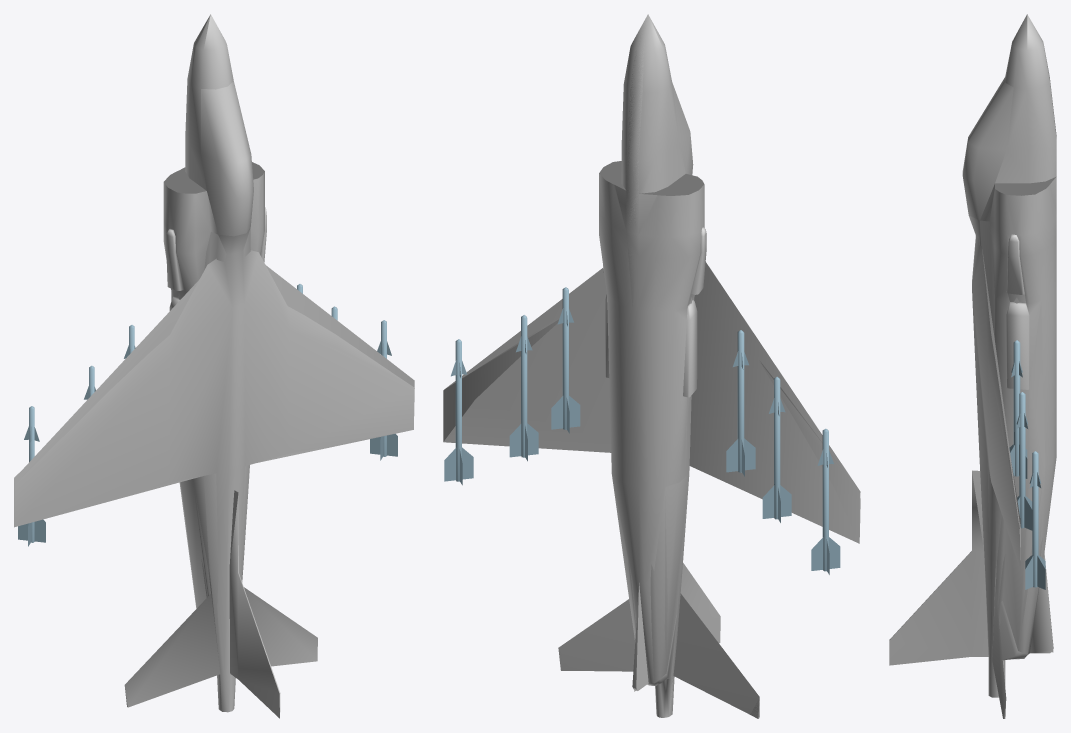
3 views of the same model, side by side, from view 1: azimuth 30°, elevation 25°; view 2: azimuth 150°, elevation 25°; view 3: azimuth 270°, elevation 25° (orthographic). The views are drawn at different scales.
Parts seen in each view (by area): view 1: db_av8b_lod2_LOD child0_wing2_p15405_Geometry_0.001, db_av8b_lod1_LOD child0_wing_p13792_Geometry_0.001, db_av8b_lod1_LOD child0_body_pl2_Geometry_0.001, db_av8b_lod1_LOD child0_stab_p13813_Geometry_0.001, db_av8b_lod1_LOD child0_cpit_p13686_Geometry_0.001, db_av8b_lod3_LOD child0_wing3_p16493_Geometry_0.001, db_av8b_lod1_LOD child0_tail_pl13_Geometry_0.001, db_av8b_lod2_LOD child0_body2_p15446_Geometry_0.001, db_av8b_lod1_LOD child0_vents_p13742_Geometry_0.001, db_av8b_weap_LOD child0_o2651_p16615_Geometry_0.001, db_av8b_weap_LOD child0_o2653_p16644_Geometry_0.001, db_av8b_lod3_LOD child0_body3_p16507_Geometry_0.001; view 2: db_av8b_lod1_LOD child0_body_pl2_Geometry_0.001, db_av8b_lod3_LOD child0_wing3_p16493_Geometry_0.001, db_av8b_lod2_LOD child0_body2_p15446_Geometry_0.001, db_av8b_lod1_LOD child0_stab_p13813_Geometry_0.001, db_av8b_lod2_LOD child0_wing2_p15405_Geometry_0.001, db_av8b_lod1_LOD child0_vents_p13742_Geometry_0.001, db_av8b_weap_LOD child0_o2657_p16702_Geometry_0.001, db_av8b_weap_LOD child0_o2653_p16644_Geometry_0.001, db_av8b_weap_LOD child0_o2659_p16731_Geometry_0.001, db_av8b_weap_LOD child0_o2655_p16673_Geometry_0.001, db_av8b_weap_LOD child0_o2651_p16615_Geometry_0.001, db_av8b_weap_LOD child0_o2661_p16760_Geometry_0.001 (+5 smaller); view 3: db_av8b_lod1_LOD child0_body_pl2_Geometry_0.001, db_av8b_lod1_LOD child0_tail_pl13_Geometry_0.001, db_av8b_lod2_LOD child0_body2_p15446_Geometry_0.001, db_av8b_lod1_LOD child0_cpit_p13686_Geometry_0.001, db_av8b_lod1_LOD child0_wing_p13792_Geometry_0.001, db_av8b_lod1_LOD child0_vents_p13742_Geometry_0.001, db_av8b_lod2_LOD child0_wing2_p15405_Geometry_0.001, db_av8b_weap_LOD child0_o2653_p16644_Geometry_0.001, db_av8b_lod3_LOD child0_body3_p16507_Geometry_0.001, db_av8b_weap_LOD child0_o2659_p16731_Geometry_0.001, db_av8b_lod1_LOD child0_fin_pl7_Geometry_0.001, db_av8b_weap_LOD child0_o2661_p16760_Geometry_0.001 (+3 smaller).
Boxes of the visible parts, bbox=[...] form: db_av8b_lod2_LOD child0_wing2_p15405_Geometry_0.001: bbox=[14, 330, 414, 527]; db_av8b_lod1_LOD child0_wing_p13792_Geometry_0.001: bbox=[14, 250, 414, 520]; db_av8b_lod1_LOD child0_body_pl2_Geometry_0.001: bbox=[163, 14, 264, 712]; db_av8b_lod1_LOD child0_stab_p13813_Geometry_0.001: bbox=[124, 587, 317, 707]; db_av8b_lod1_LOD child0_cpit_p13686_Geometry_0.001: bbox=[201, 81, 253, 236]; db_av8b_lod3_LOD child0_wing3_p16493_Geometry_0.001: bbox=[14, 265, 414, 524]; db_av8b_lod1_LOD child0_tail_pl13_Geometry_0.001: bbox=[229, 490, 280, 718]; db_av8b_lod2_LOD child0_body2_p15446_Geometry_0.001: bbox=[179, 465, 249, 711]; db_av8b_lod1_LOD child0_vents_p13742_Geometry_0.001: bbox=[166, 207, 266, 310]; db_av8b_weap_LOD child0_o2651_p16615_Geometry_0.001: bbox=[18, 406, 45, 546]; db_av8b_weap_LOD child0_o2653_p16644_Geometry_0.001: bbox=[370, 320, 397, 460]; db_av8b_lod3_LOD child0_body3_p16507_Geometry_0.001: bbox=[178, 228, 250, 608]; db_av8b_lod1_LOD child0_body_pl2_Geometry_0.001: bbox=[599, 14, 704, 717]; db_av8b_lod3_LOD child0_wing3_p16493_Geometry_0.001: bbox=[443, 262, 860, 543]; db_av8b_lod2_LOD child0_body2_p15446_Geometry_0.001: bbox=[612, 15, 689, 714]; db_av8b_lod1_LOD child0_stab_p13813_Geometry_0.001: bbox=[558, 593, 759, 718]; db_av8b_lod2_LOD child0_wing2_p15405_Geometry_0.001: bbox=[443, 319, 859, 543]; db_av8b_lod1_LOD child0_vents_p13742_Geometry_0.001: bbox=[603, 227, 706, 397]; db_av8b_weap_LOD child0_o2657_p16702_Geometry_0.001: bbox=[726, 330, 755, 476]; db_av8b_weap_LOD child0_o2653_p16644_Geometry_0.001: bbox=[444, 339, 473, 485]; db_av8b_weap_LOD child0_o2659_p16731_Geometry_0.001: bbox=[509, 315, 538, 461]; db_av8b_weap_LOD child0_o2655_p16673_Geometry_0.001: bbox=[762, 376, 791, 522]; db_av8b_weap_LOD child0_o2651_p16615_Geometry_0.001: bbox=[811, 428, 840, 574]; db_av8b_weap_LOD child0_o2661_p16760_Geometry_0.001: bbox=[551, 287, 580, 433]; db_av8b_lod1_LOD child0_body_pl2_Geometry_0.001: bbox=[969, 14, 1056, 697]; db_av8b_lod1_LOD child0_tail_pl13_Geometry_0.001: bbox=[889, 470, 988, 665]; db_av8b_lod2_LOD child0_body2_p15446_Geometry_0.001: bbox=[987, 28, 1056, 655]; db_av8b_lod1_LOD child0_cpit_p13686_Geometry_0.001: bbox=[962, 77, 1013, 220]; db_av8b_lod1_LOD child0_wing_p13792_Geometry_0.001: bbox=[972, 246, 1020, 559]; db_av8b_lod1_LOD child0_vents_p13742_Geometry_0.001: bbox=[1006, 234, 1029, 389]; db_av8b_lod2_LOD child0_wing2_p15405_Geometry_0.001: bbox=[988, 359, 1020, 570]; db_av8b_weap_LOD child0_o2653_p16644_Geometry_0.001: bbox=[1025, 451, 1045, 589]; db_av8b_lod3_LOD child0_body3_p16507_Geometry_0.001: bbox=[978, 220, 1044, 648]; db_av8b_weap_LOD child0_o2659_p16731_Geometry_0.001: bbox=[1016, 392, 1032, 530]; db_av8b_lod1_LOD child0_fin_pl7_Geometry_0.001: bbox=[1030, 553, 1053, 653]; db_av8b_weap_LOD child0_o2661_p16760_Geometry_0.001: bbox=[1009, 340, 1027, 478].
Bounding box in the file's own units: 8.58 × 13.99 × 3.12.
